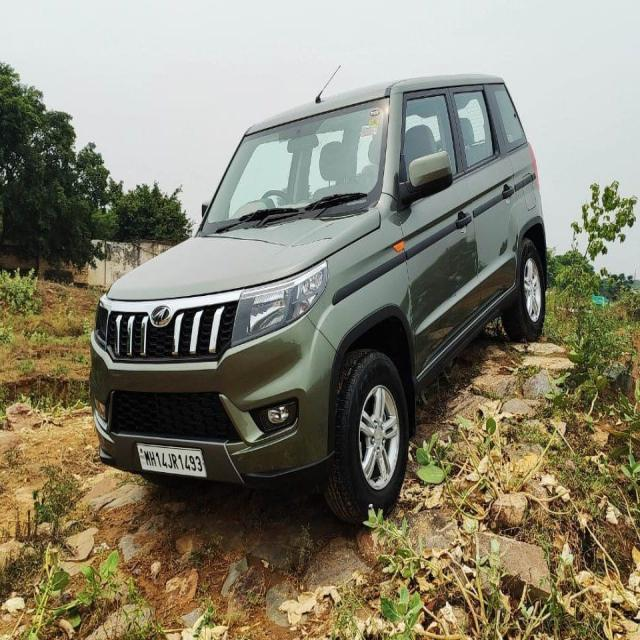light_vehicle: (94, 74, 553, 516)
